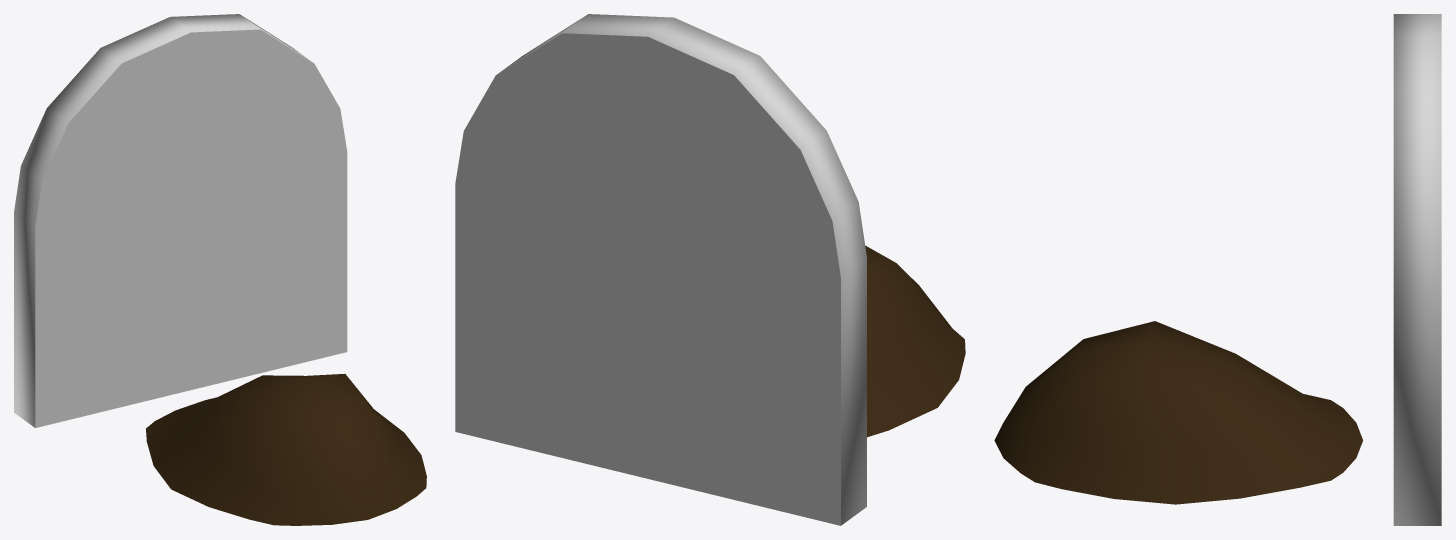
Rendered from grave.fbx.
The picture shows the model from 3 angles, left to right: view 1: azimuth 30°, elevation 25°; view 2: azimuth 150°, elevation 25°; view 3: azimuth 270°, elevation 25°; orthographic projection. The views are drawn at different scales.
Visible parts, largest first — view 1: Cube.001; view 2: Cube.001; view 3: Cube.001.
Boxes of the visible parts, box(x1,y1,x2,y2) form: Cube.001: box(14, 14, 426, 525); Cube.001: box(455, 14, 965, 525); Cube.001: box(994, 14, 1441, 525).
Size of the model in its own units: 153 by 168 by 169.
